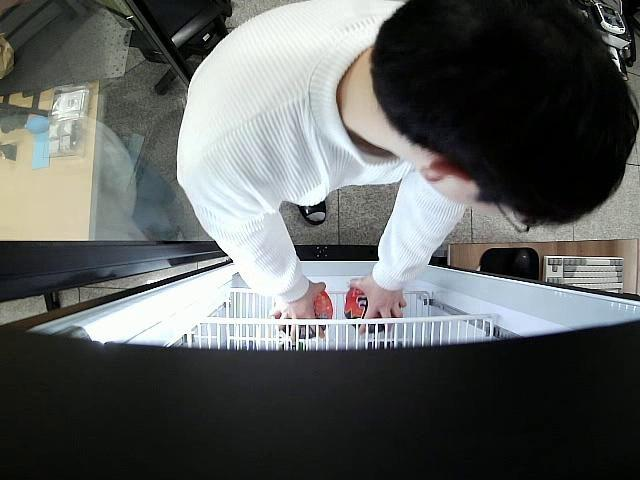01_ShinRamen_L: (276, 290, 332, 336), (342, 284, 392, 332)
